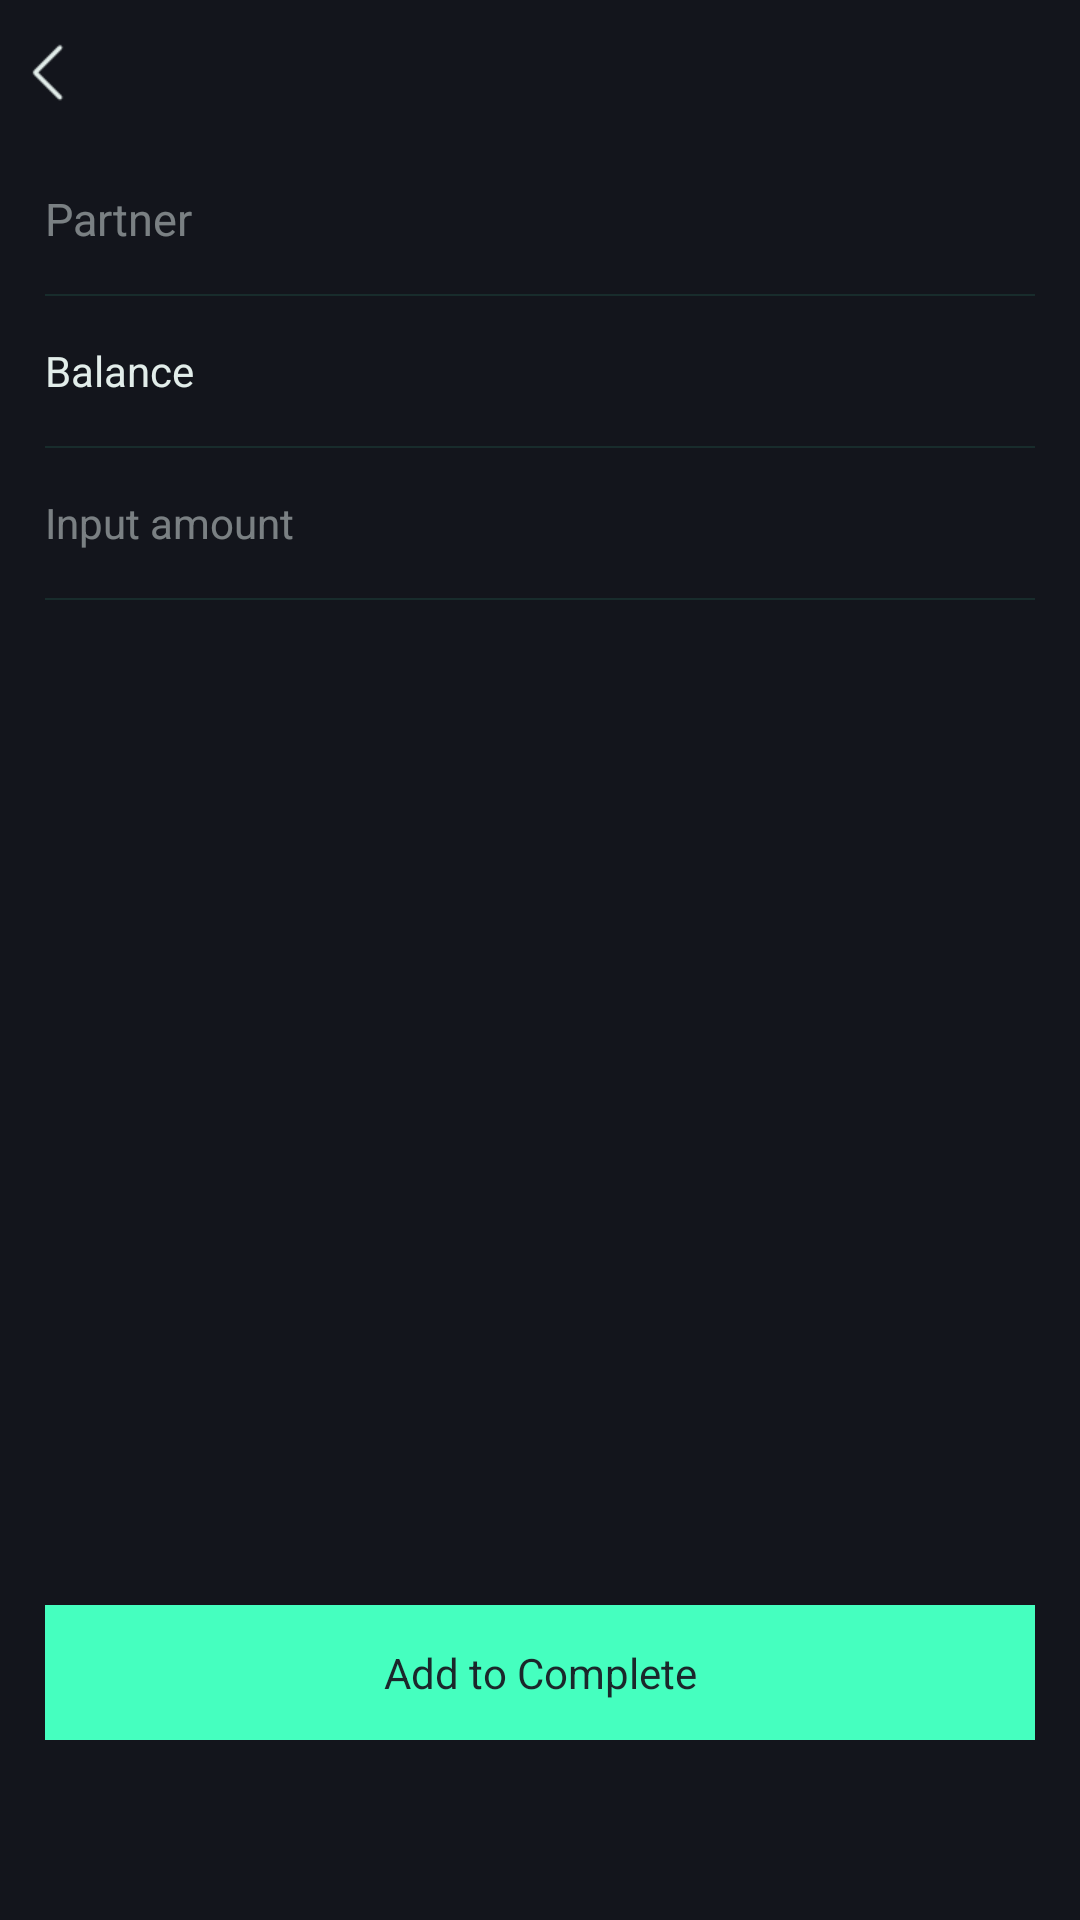

Screen size 1080×1920. Icon name, then its center in pixels as (x,y):
back: (47,73)
